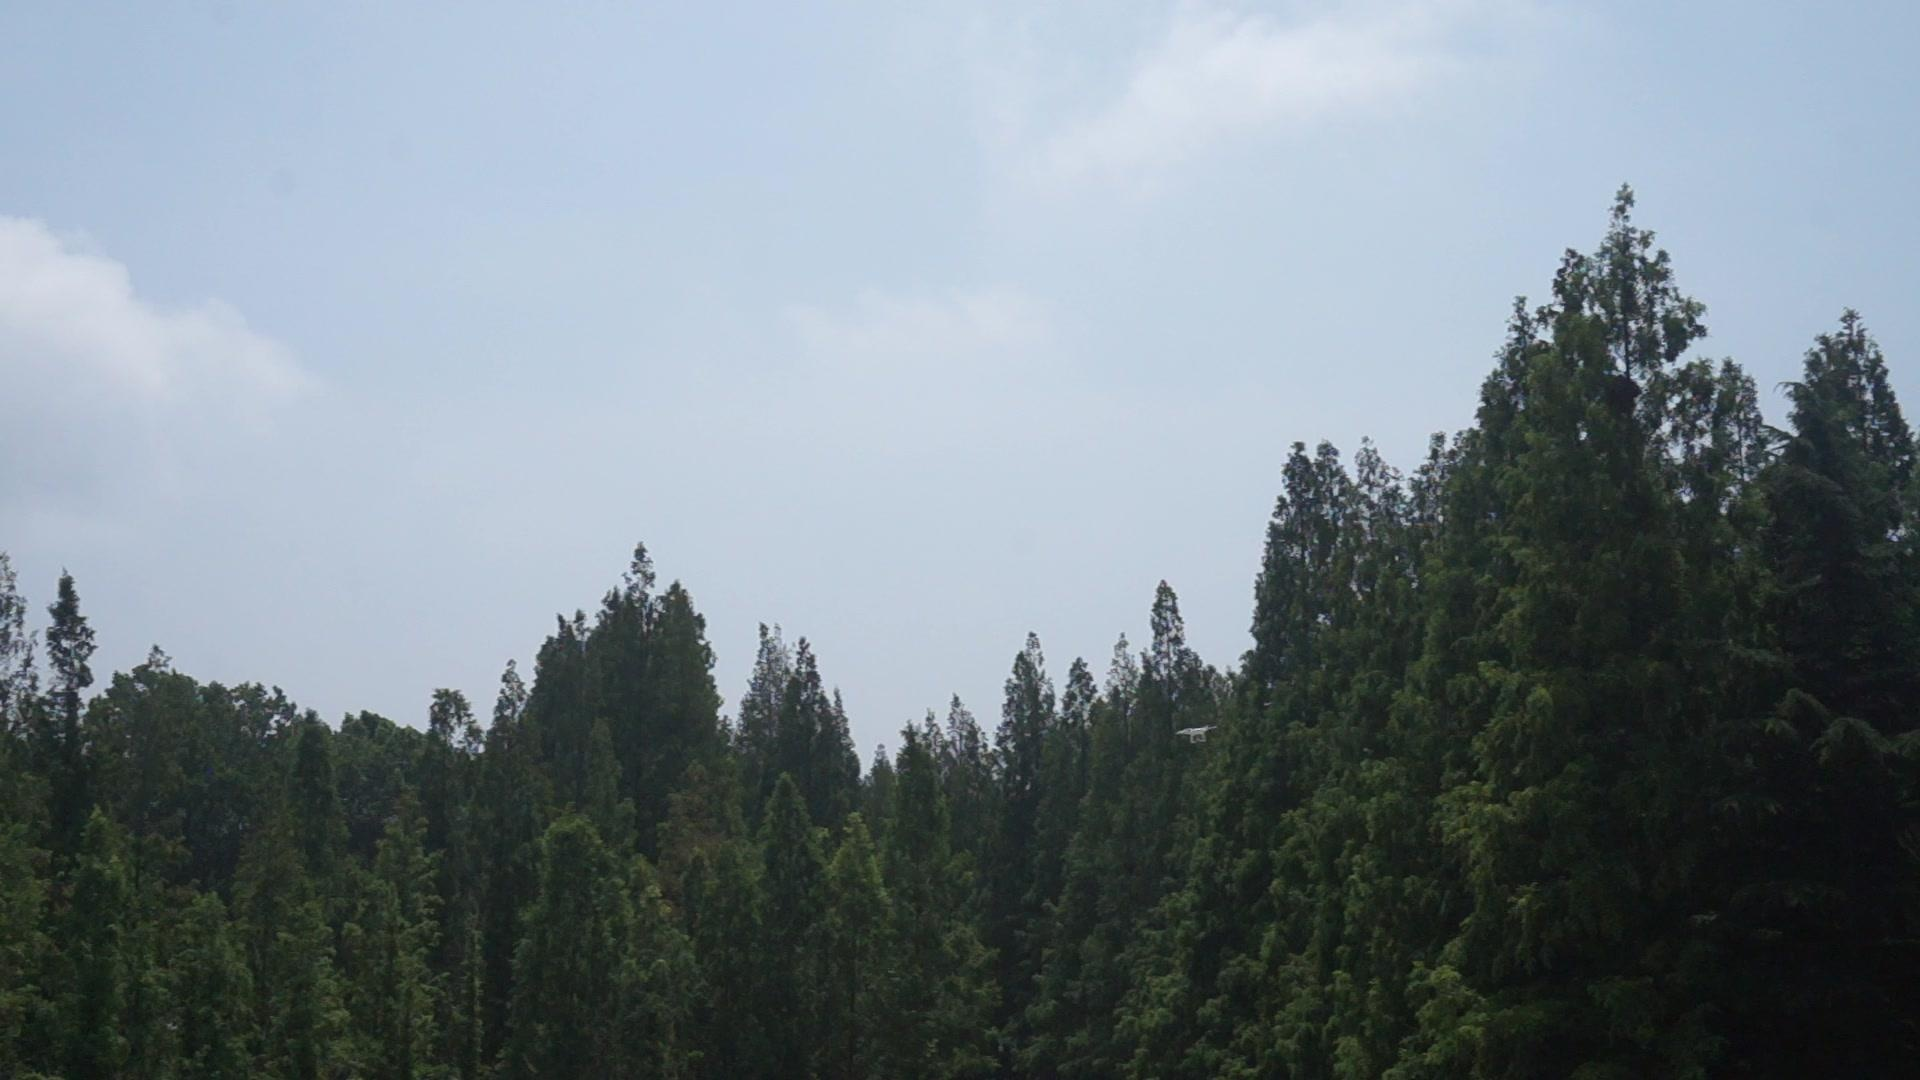UAV: (1176, 727, 1218, 744)
